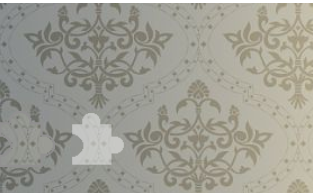target: (66, 111, 127, 168)
